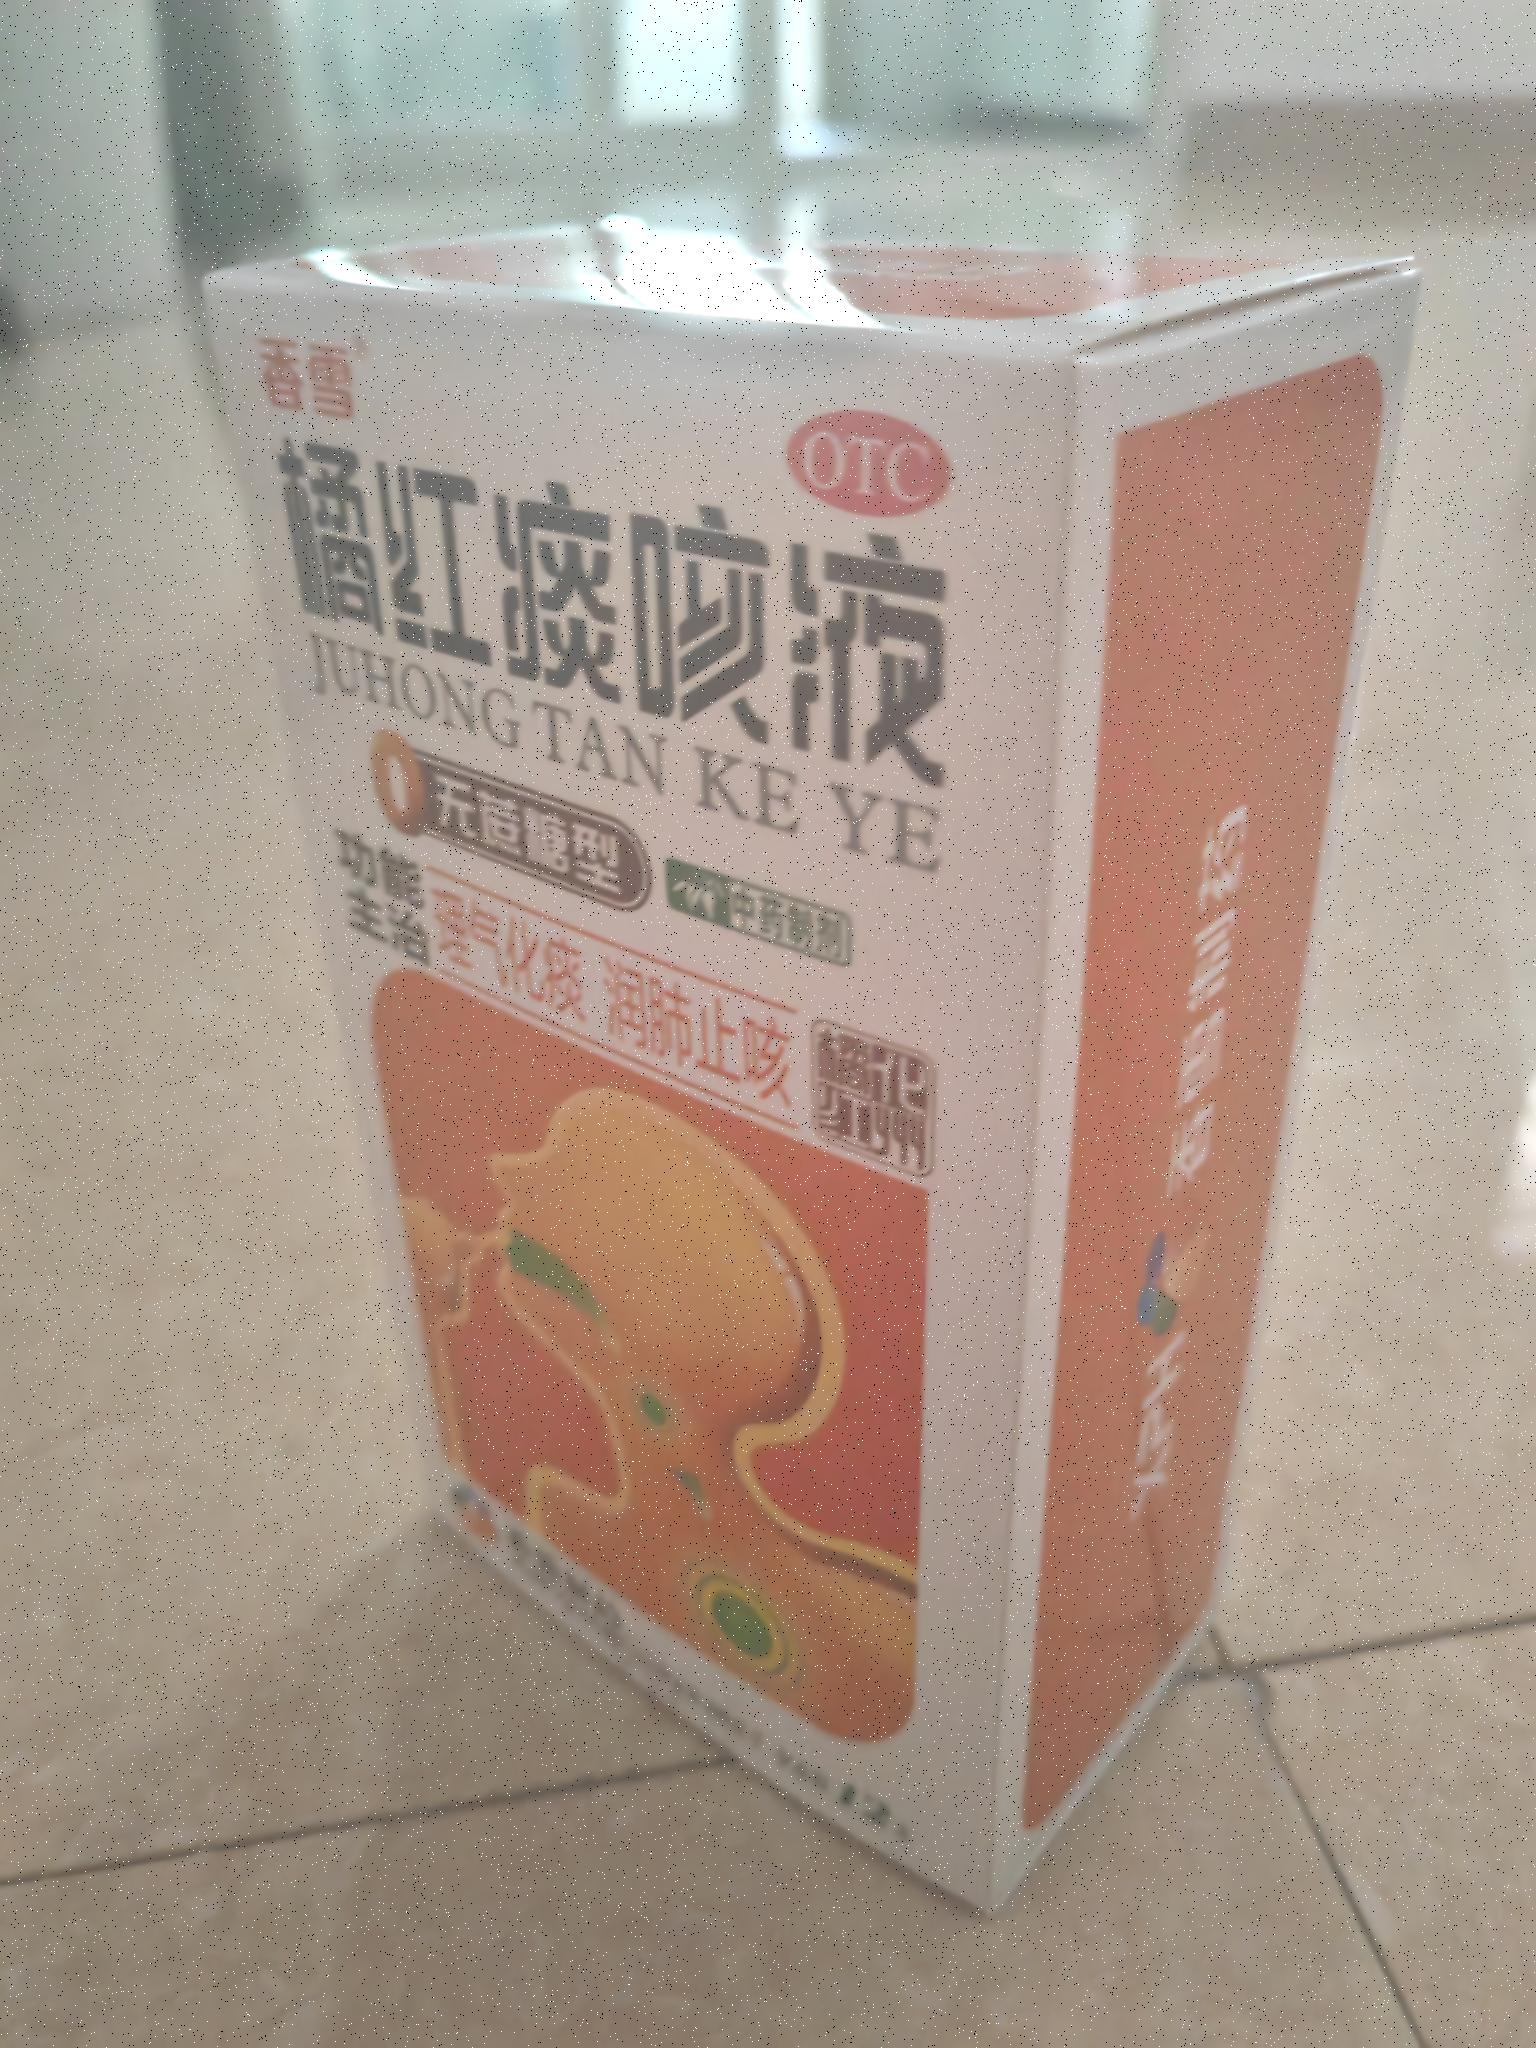Medicine1: (190, 203, 1446, 1940)
